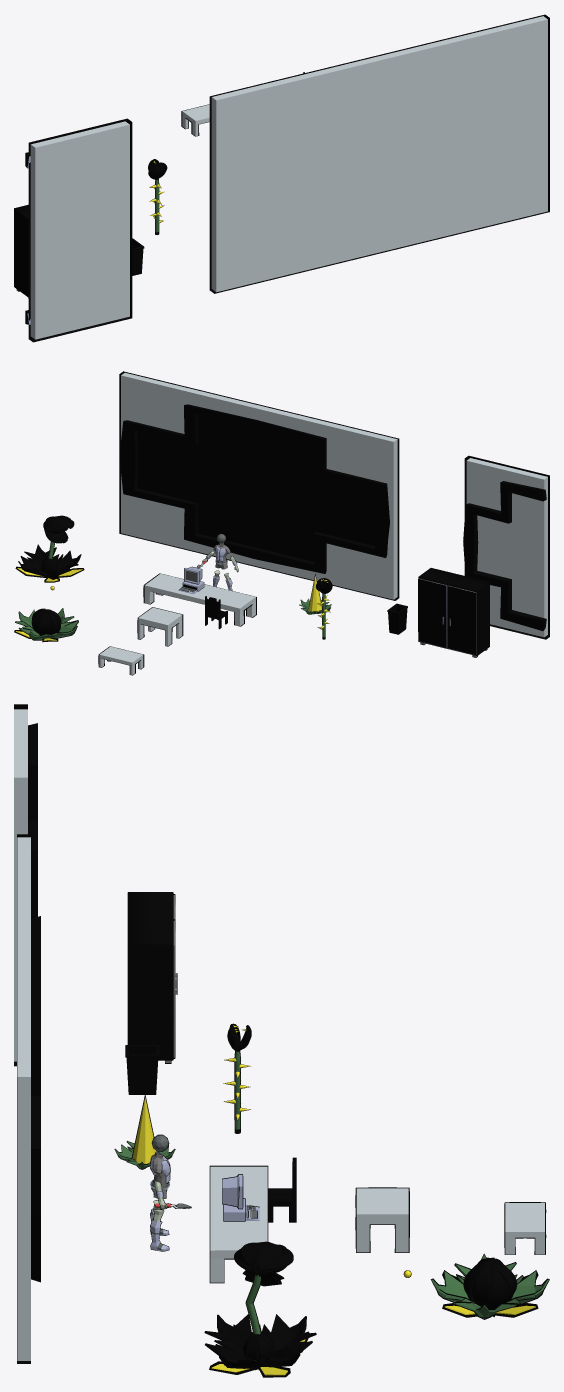
File: Budding4_chomperandcabinet.fbx
3 renders of one model, top to bottom at view 1: azimuth 30°, elevation 25°; view 2: azimuth 150°, elevation 25°; view 3: azimuth 270°, elevation 25°, orthographic. The views are drawn at different scales.
Visible parts, largest first — view 1: wall panel, door_half, cabinet, table3; view 2: wall panel, door_half, cabinet, table1, peashooter_base, table2, peashooter_rotate, bud_base, table3, bud_bud, trashcan, computer (+1 smaller); view 3: wall panel, cabinet, table1, door_half, peashooter_base, peashooter_rotate, table2, bud_base, bud_bud, table3, trashcan, computer (+2 smaller).
Boxes of the visible parts, x1=… form: wall panel: x1=209, y1=14, x2=549, y2=293; door_half: x1=25, y1=118, x2=132, y2=342; cabinet: x1=14, y1=204, x2=28, y2=298; table3: x1=181, y1=104, x2=209, y2=136; wall panel: x1=119, y1=371, x2=399, y2=600; door_half: x1=463, y1=455, x2=549, y2=639; cabinet: x1=418, y1=568, x2=489, y2=657; table1: x1=143, y1=573, x2=256, y2=626; peashooter_base: x1=18, y1=544, x2=81, y2=579; table2: x1=137, y1=607, x2=183, y2=646; peashooter_rotate: x1=15, y1=515, x2=84, y2=582; bud_base: x1=15, y1=608, x2=78, y2=640; table3: x1=98, y1=646, x2=144, y2=675; bud_bud: x1=31, y1=608, x2=61, y2=635; trashcan: x1=387, y1=603, x2=407, y2=634; computer: x1=178, y1=566, x2=204, y2=594; wall panel: x1=17, y1=834, x2=40, y2=1363; cabinet: x1=127, y1=892, x2=177, y2=1063; table1: x1=209, y1=1165, x2=268, y2=1283; door_half: x1=14, y1=704, x2=37, y2=1066; peashooter_base: x1=204, y1=1314, x2=316, y2=1369; peashooter_rotate: x1=209, y1=1241, x2=309, y2=1377; table2: x1=355, y1=1187, x2=409, y2=1252; bud_base: x1=430, y1=1253, x2=549, y2=1319; bud_bud: x1=463, y1=1257, x2=516, y2=1309; table3: x1=504, y1=1202, x2=546, y2=1254; trashcan: x1=125, y1=1045, x2=159, y2=1094; computer: x1=222, y1=1174, x2=259, y2=1221.
Size of the model in its own units: 1528 by 514 by 855.
